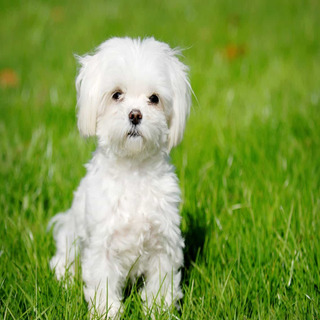perro: (61, 25, 219, 193)
